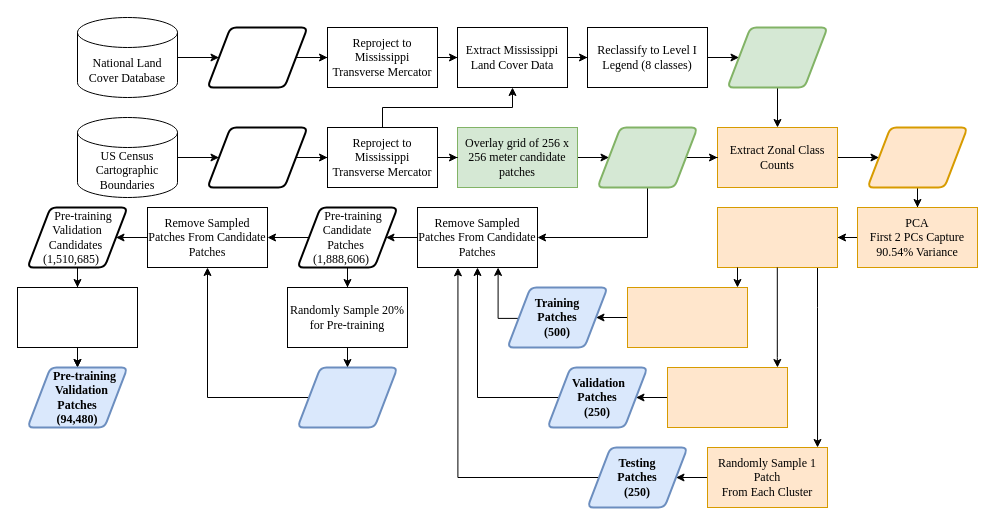
Image size: 995x526. Some labels were removed from this diagram. The shapes that lost their labels are listed below. From the top down, each one's centre as x and y in pixels, then its label:
point (257, 57): CONUS Land Cover Data
point (777, 57): MS Land Cover Data
point (257, 157): MS State Boundary
point (647, 157): Candidate Patches (1,889,606)
point (917, 157): Land Cover Probability Vectors
point (777, 237): K-Means 250 Clusters
point (77, 317): Randomly Sample 5% for Pre-training Validation
point (687, 317): Randomly Sample 2 Patches From Each Cluster
point (347, 397): Pre-training Patches (377,921)
point (727, 397): Randomly Sample 1 Patch F rom Each Cluster
